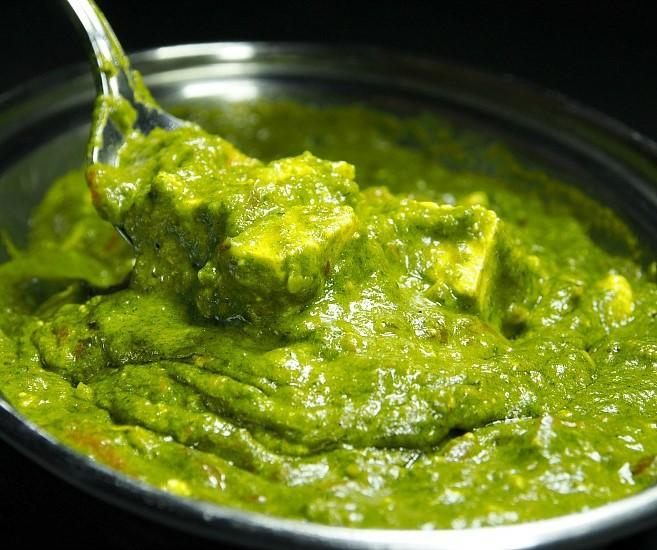PalakPaneer: (0, 104, 657, 524)
